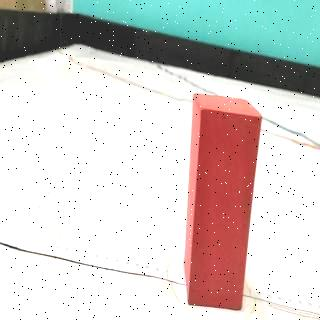redbox: (185, 90, 262, 310)
